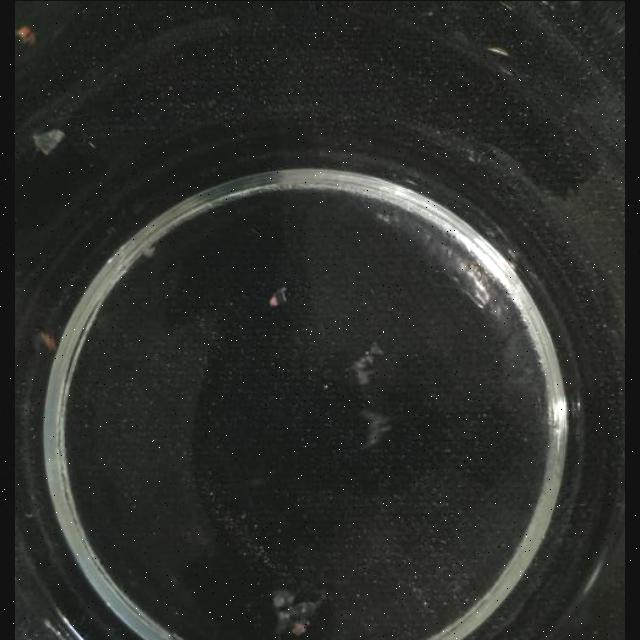Fibre: (350, 342, 386, 384), (358, 408, 392, 450), (34, 128, 66, 154), (138, 238, 158, 258), (270, 287, 288, 307)
Fragment: (272, 585, 328, 635), (14, 25, 36, 45)
microbeads: (37, 330, 57, 350), (292, 621, 308, 635), (322, 382, 328, 390), (422, 598, 428, 606)
